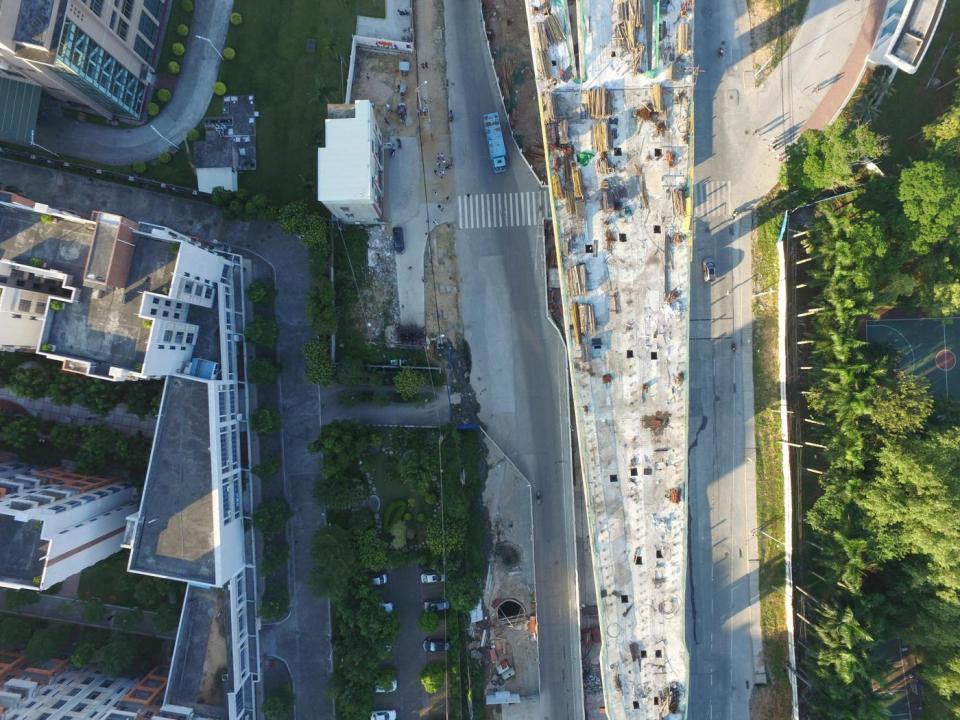car: (360, 678, 398, 695), (421, 636, 451, 653), (366, 600, 394, 616), (361, 708, 397, 720), (422, 598, 450, 612), (702, 256, 717, 282), (392, 226, 405, 255), (420, 571, 446, 584), (362, 572, 386, 586)
truck: (482, 111, 507, 174)
